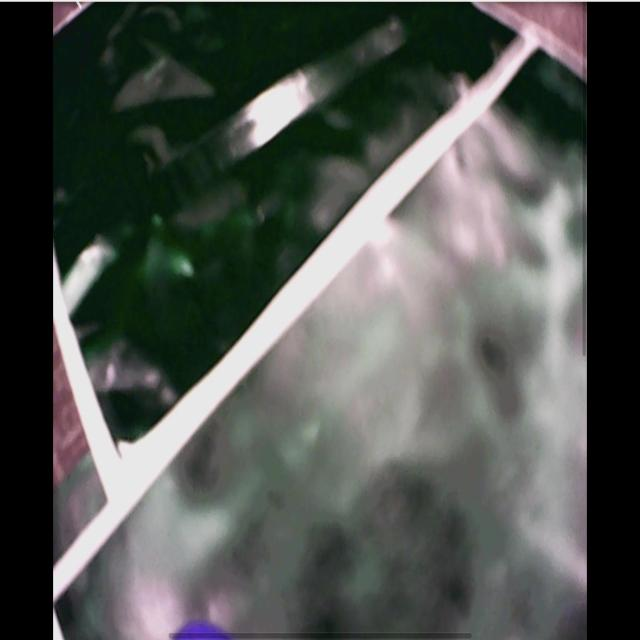ball: (171, 619, 230, 640)
